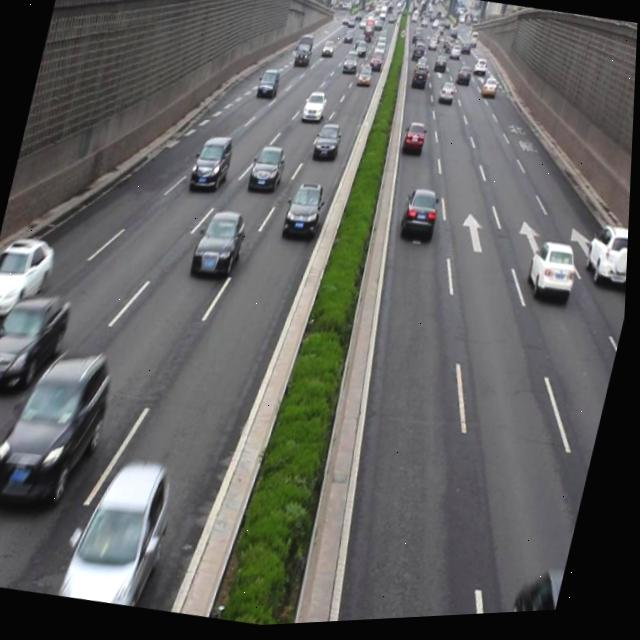car: (0, 336, 122, 519), (63, 450, 184, 614), (0, 281, 77, 399), (0, 229, 62, 327), (191, 208, 251, 284), (525, 239, 584, 309), (583, 226, 631, 297), (189, 131, 239, 198), (283, 182, 331, 246), (399, 186, 446, 248), (249, 144, 290, 197), (311, 122, 346, 168), (301, 91, 330, 130), (402, 123, 430, 161)
